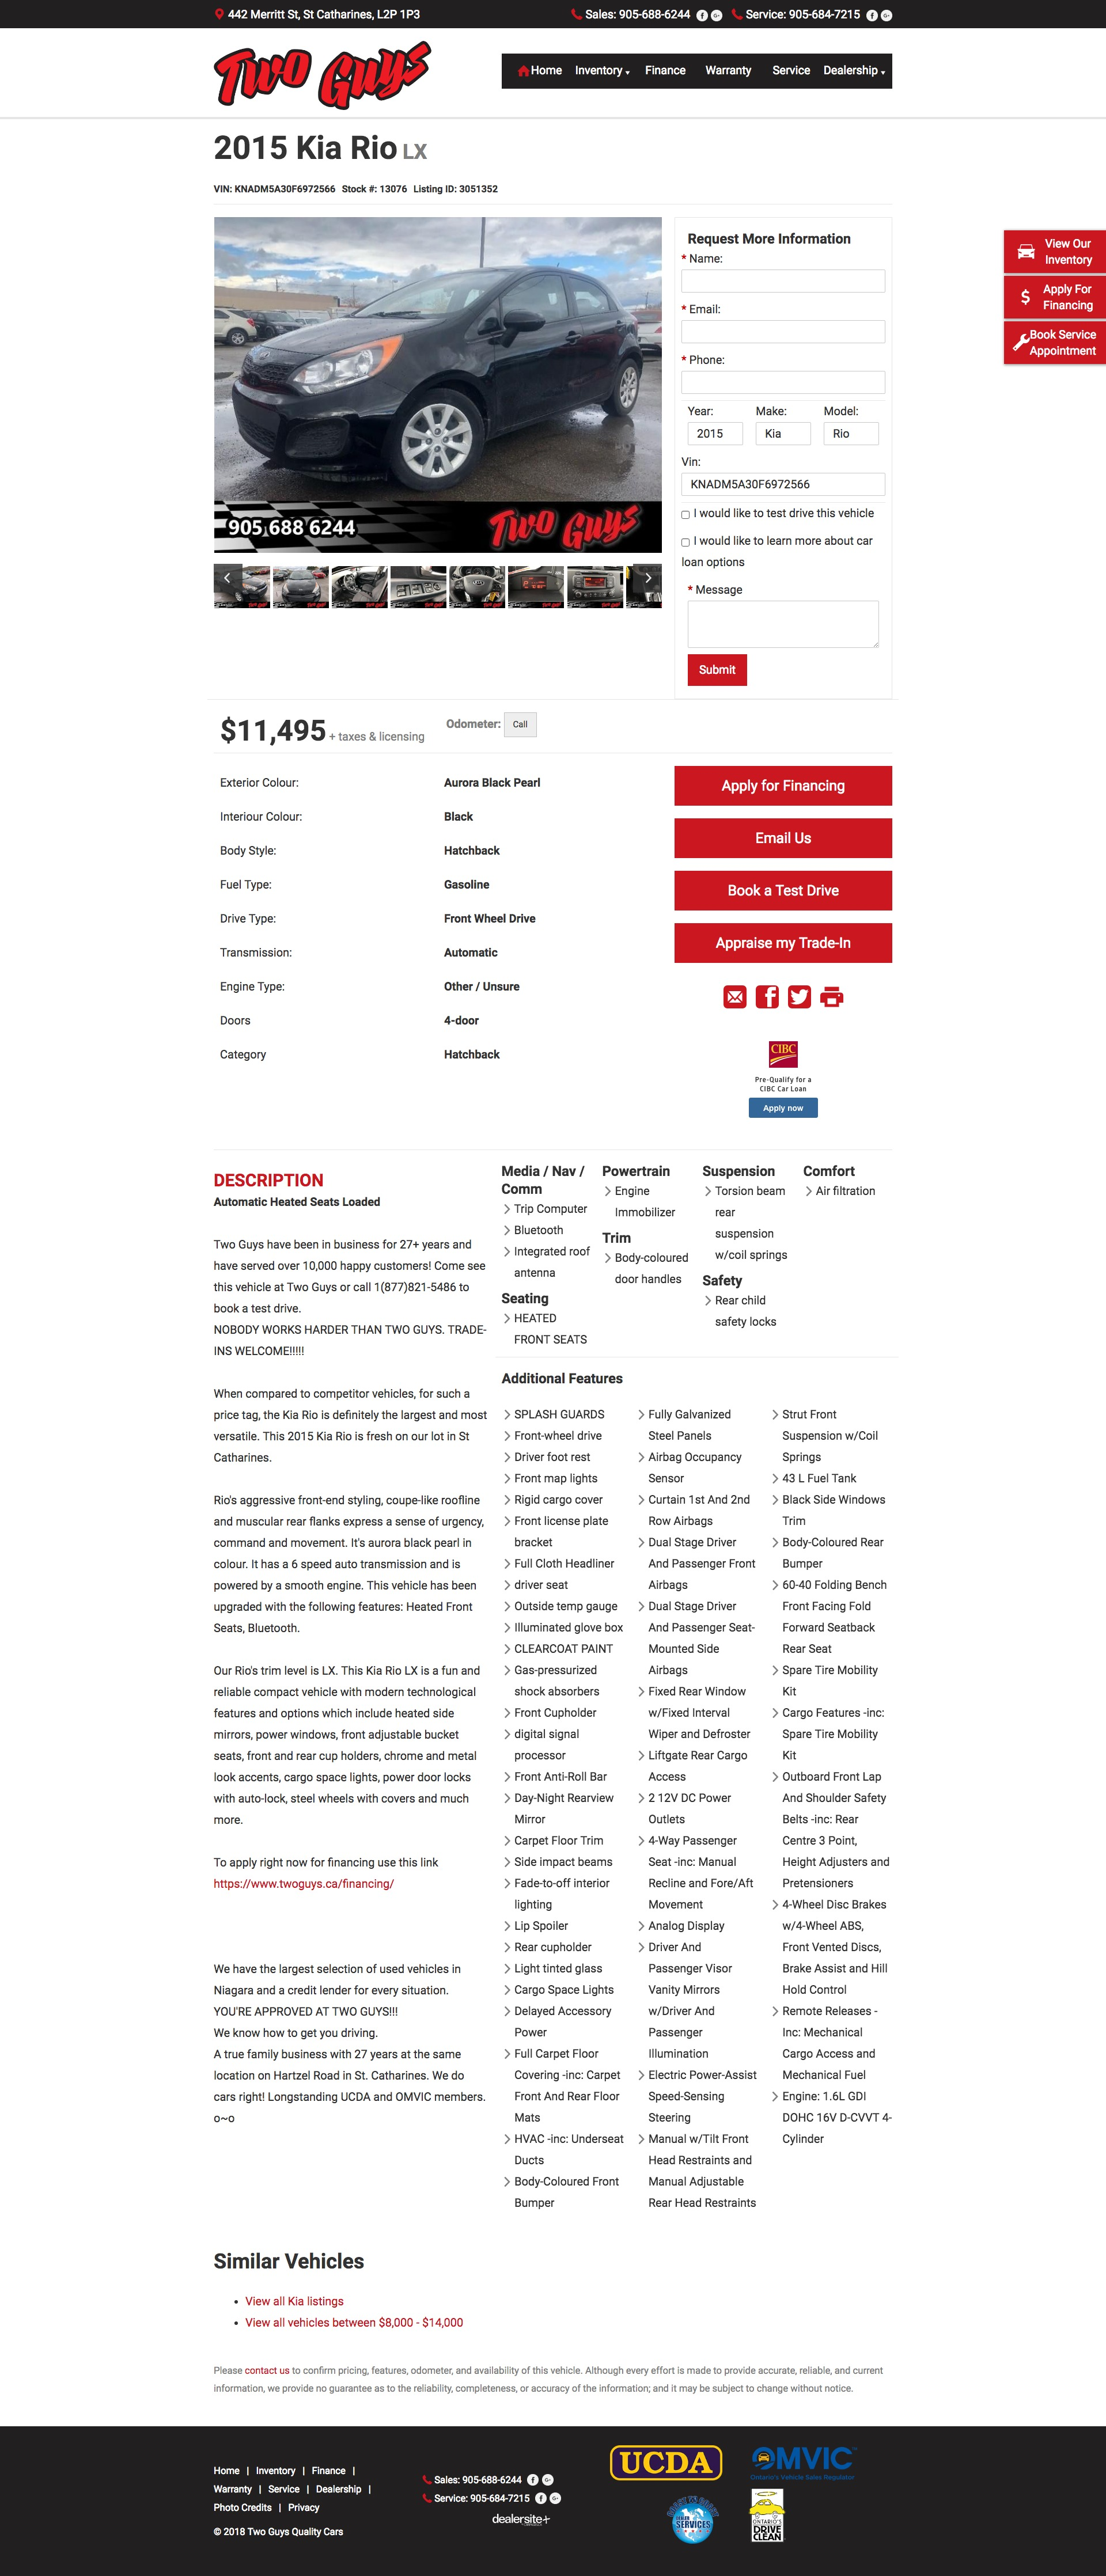car: (633, 562, 664, 595)
